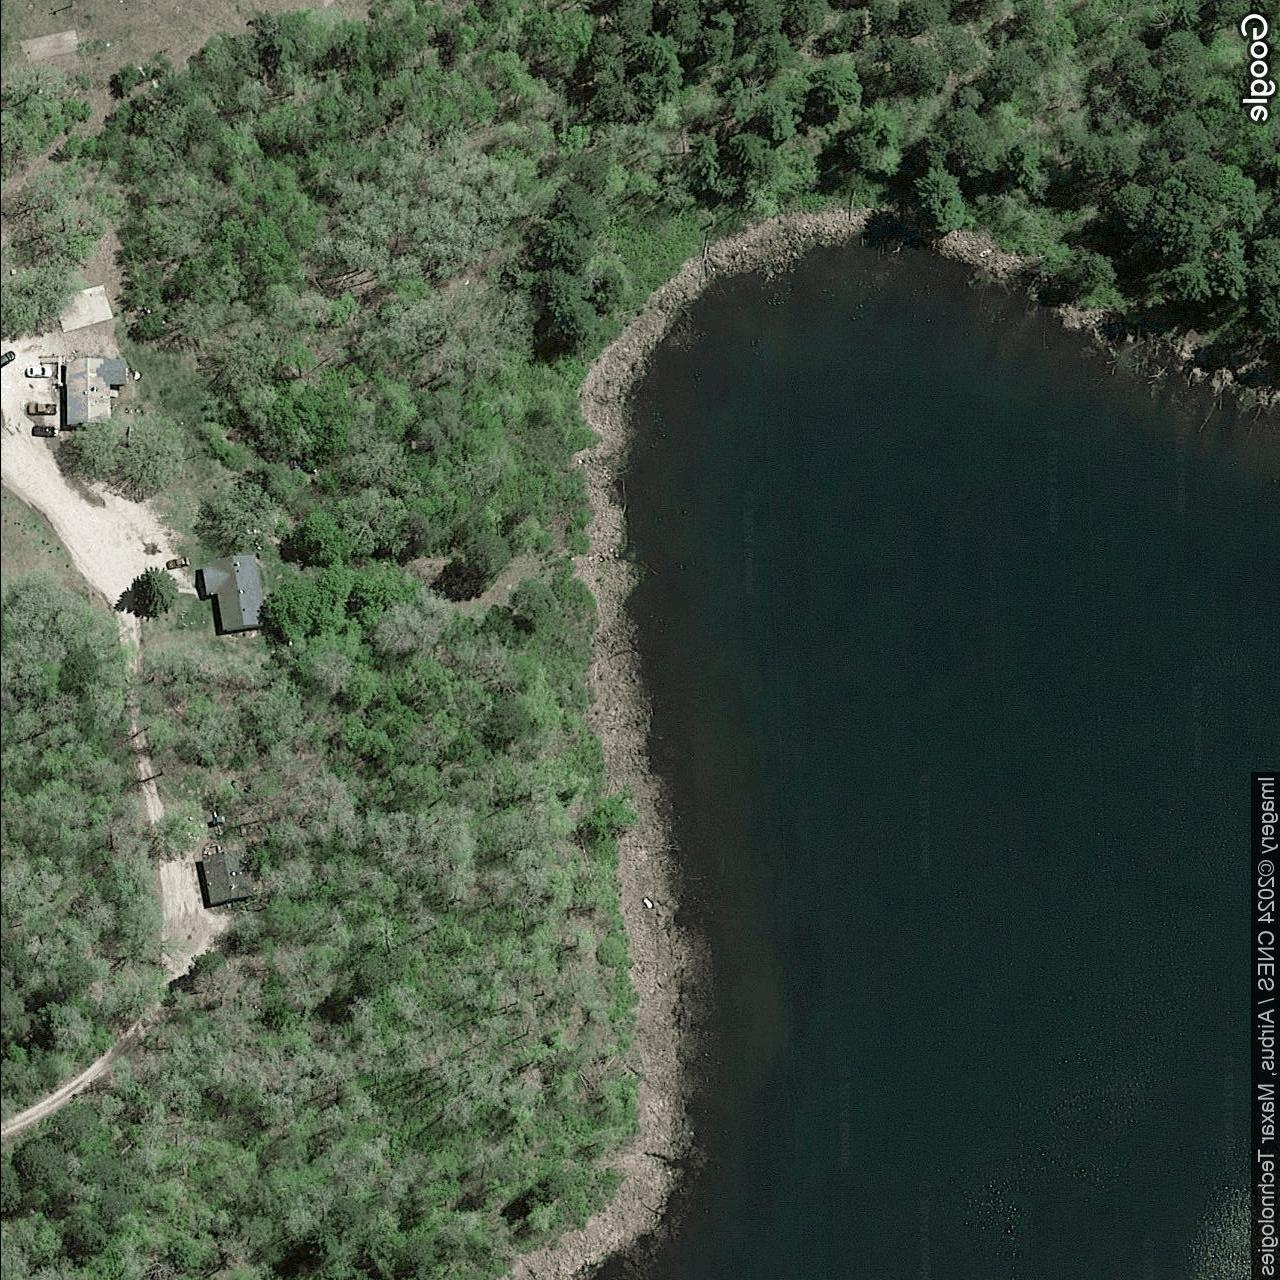House: (202, 552, 264, 634), (64, 358, 125, 430), (198, 844, 258, 910)
